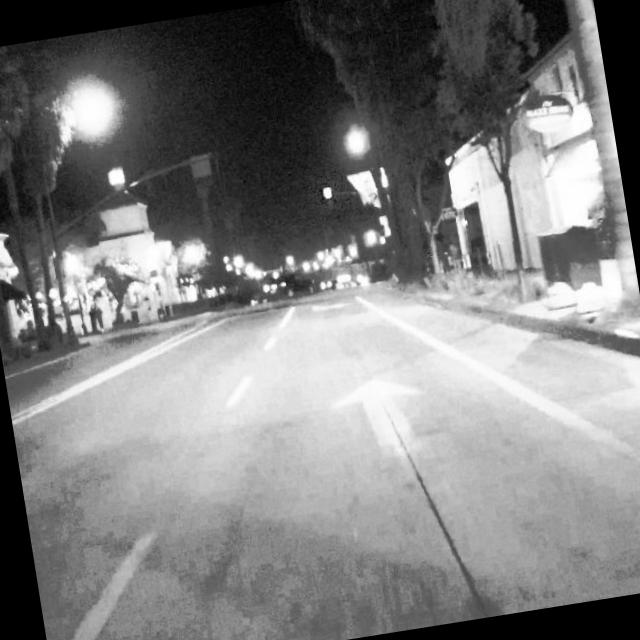Tree: (442, 0, 581, 310), (539, 0, 640, 328)
